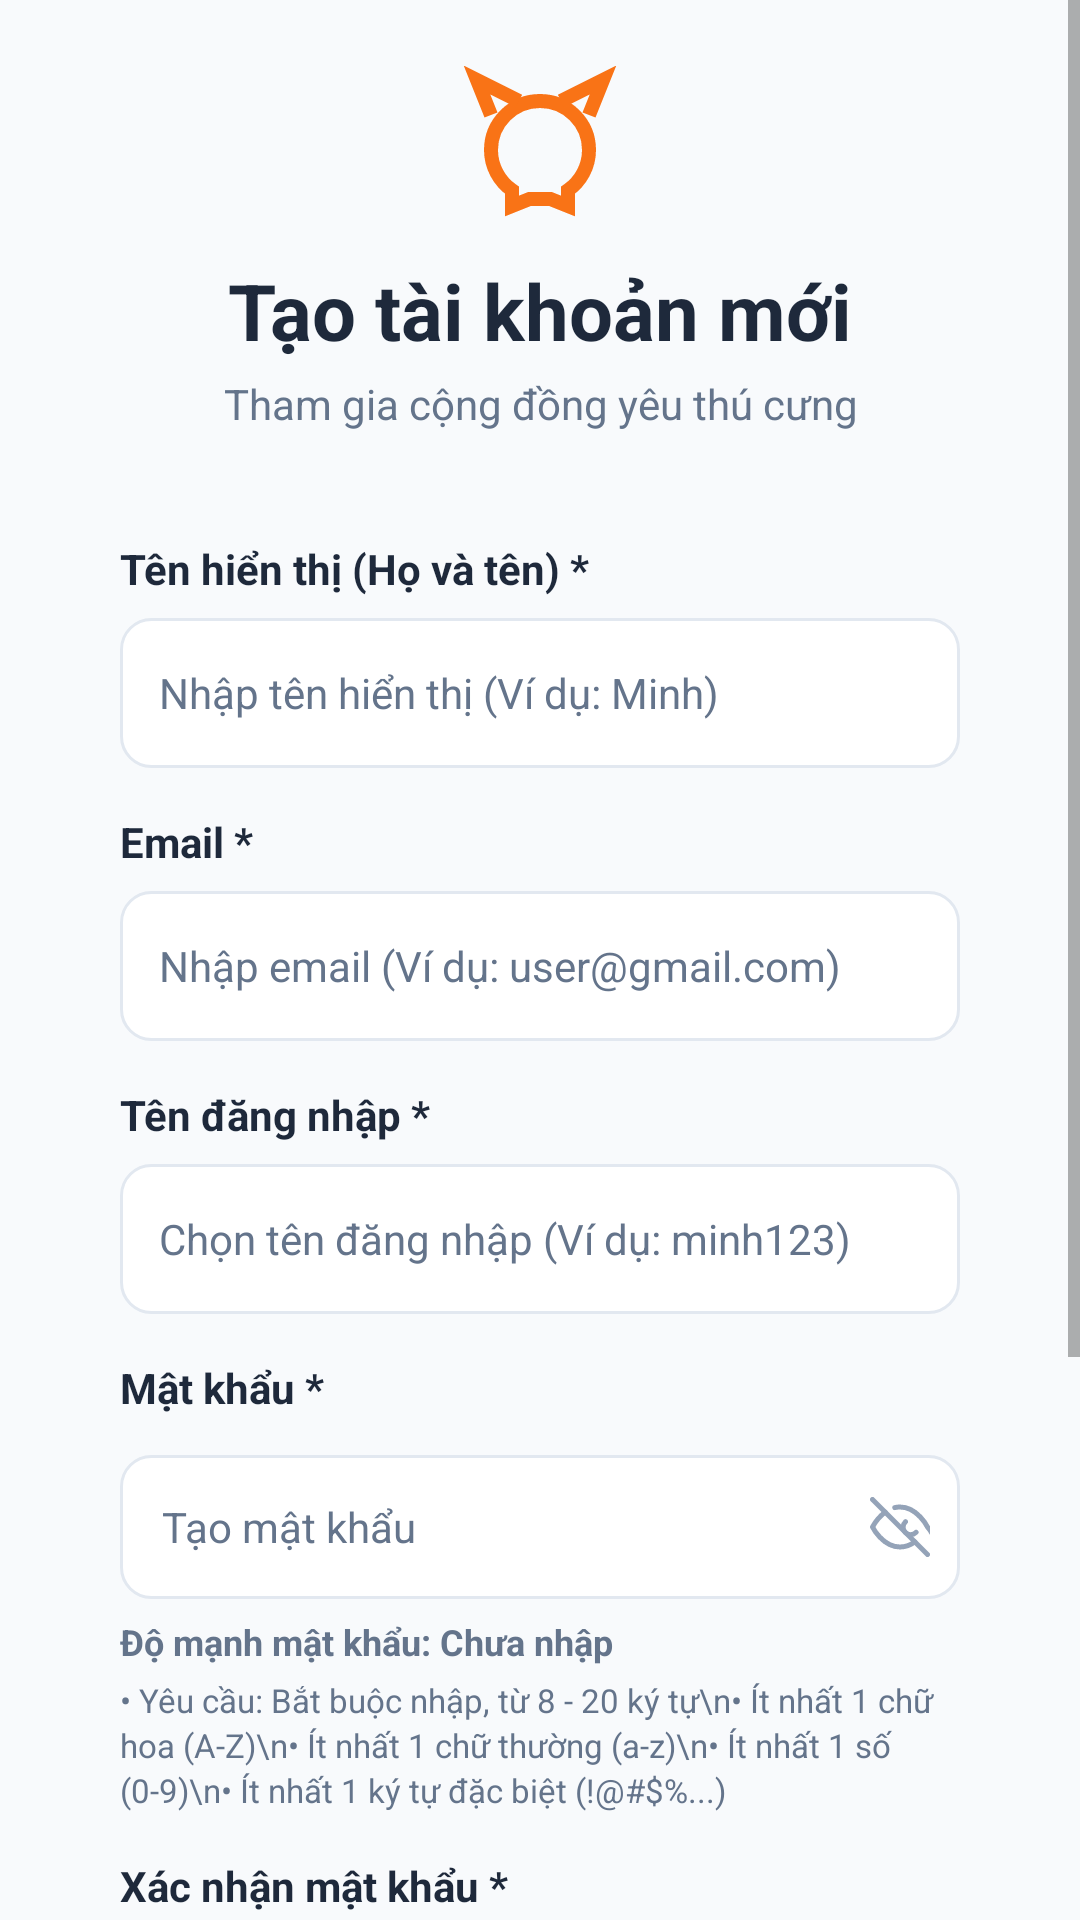

Icons on this 1080*1920 Android screen, each with its box as [left=x1, top=y1, right=x2, bottom=y2]:
Toggle Password: [left=870, top=1497, right=930, bottom=1557]
